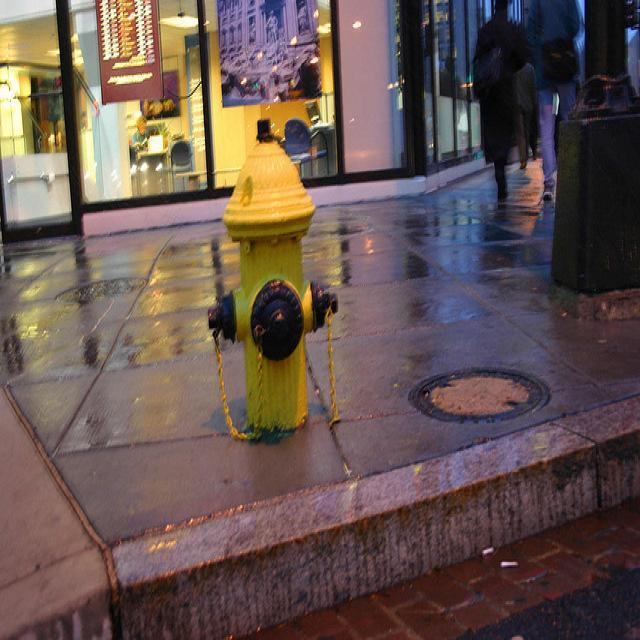fire_hydrant: (207, 116, 339, 442)
